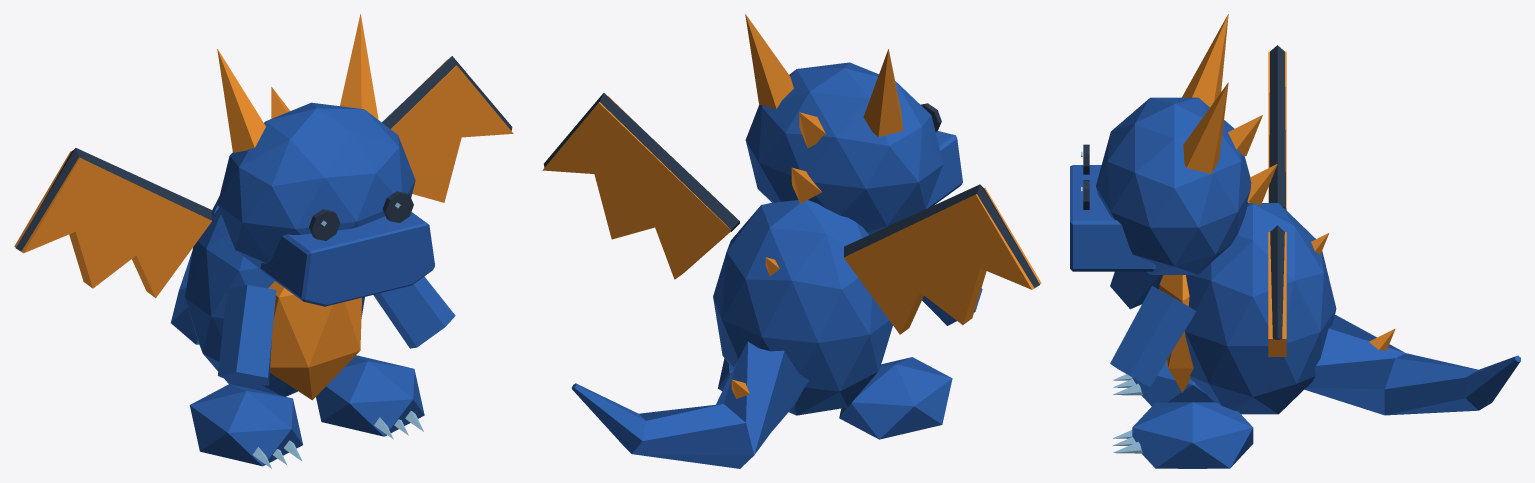
3 renders of one model, left to right at view 1: azimuth 30°, elevation 25°; view 2: azimuth 150°, elevation 25°; view 3: azimuth 270°, elevation 25°, orthographic. The views are drawn at different scales.
Parts seen in each view (by area): view 1: Cabeça, Asa geométrica, Focinho angular, Asa geométrica.001, Placa do peito, Pé, Corpo, Pé.001, Braço, Braço.001, Borda da asa, Chifre (+5 smaller); view 2: Corpo, Cabeça, Asa geométrica, Cauda, Asa geométrica.001, Pé, Borda da asa.001, Borda da asa, Chifre.001, Chifre, Focinho angular, Espinho dorsal.001 (+1 smaller); view 3: Corpo, Cabeça, Cauda, Pé.001, Focinho angular, Braço.001, Borda da asa, Chifre.001, Chifre, Placa do peito, Pé, Borda da asa.001 (+5 smaller).
Boxes of the visible parts, bbox=[...] form: Cabeça: bbox=[217, 102, 415, 269]; Asa geométrica: bbox=[14, 151, 211, 297]; Focinho angular: bbox=[260, 212, 434, 306]; Asa geométrica.001: bbox=[391, 59, 513, 202]; Placa do peito: bbox=[268, 281, 361, 400]; Pé: bbox=[189, 384, 302, 466]; Corpo: bbox=[185, 208, 364, 396]; Pé.001: bbox=[316, 355, 424, 436]; Braço: bbox=[218, 285, 276, 385]; Braço.001: bbox=[373, 276, 455, 348]; Borda da asa: bbox=[16, 148, 211, 251]; Chifre: bbox=[217, 49, 265, 152]; Corpo: bbox=[713, 200, 892, 415]; Cabeça: bbox=[745, 62, 943, 234]; Asa geométrica: bbox=[844, 188, 1041, 334]; Cauda: bbox=[571, 341, 809, 468]; Asa geométrica.001: bbox=[542, 96, 730, 279]; Pé: bbox=[839, 357, 952, 439]; Borda da asa.001: bbox=[544, 93, 739, 231]; Borda da asa: bbox=[844, 184, 1039, 288]; Chifre.001: bbox=[745, 14, 793, 108]; Chifre: bbox=[863, 49, 902, 137]; Focinho angular: bbox=[926, 131, 962, 208]; Espinho dorsal.001: bbox=[791, 167, 821, 203]; Corpo: bbox=[1184, 203, 1336, 414]; Cabeça: bbox=[1096, 97, 1251, 274]; Cauda: bbox=[1304, 314, 1520, 415]; Pé.001: bbox=[1132, 402, 1253, 468]; Focinho angular: bbox=[1070, 165, 1155, 271]; Braço.001: bbox=[1110, 286, 1196, 386]; Borda da asa: bbox=[1269, 45, 1285, 208]; Chifre.001: bbox=[1183, 82, 1228, 173]; Chifre: bbox=[1182, 14, 1228, 107]; Placa do peito: bbox=[1159, 275, 1193, 392]; Pé: bbox=[1132, 362, 1214, 406]; Borda da asa.001: bbox=[1270, 225, 1284, 339].
Size of the model in its own units: 2.29 by 1.76 by 1.84.
